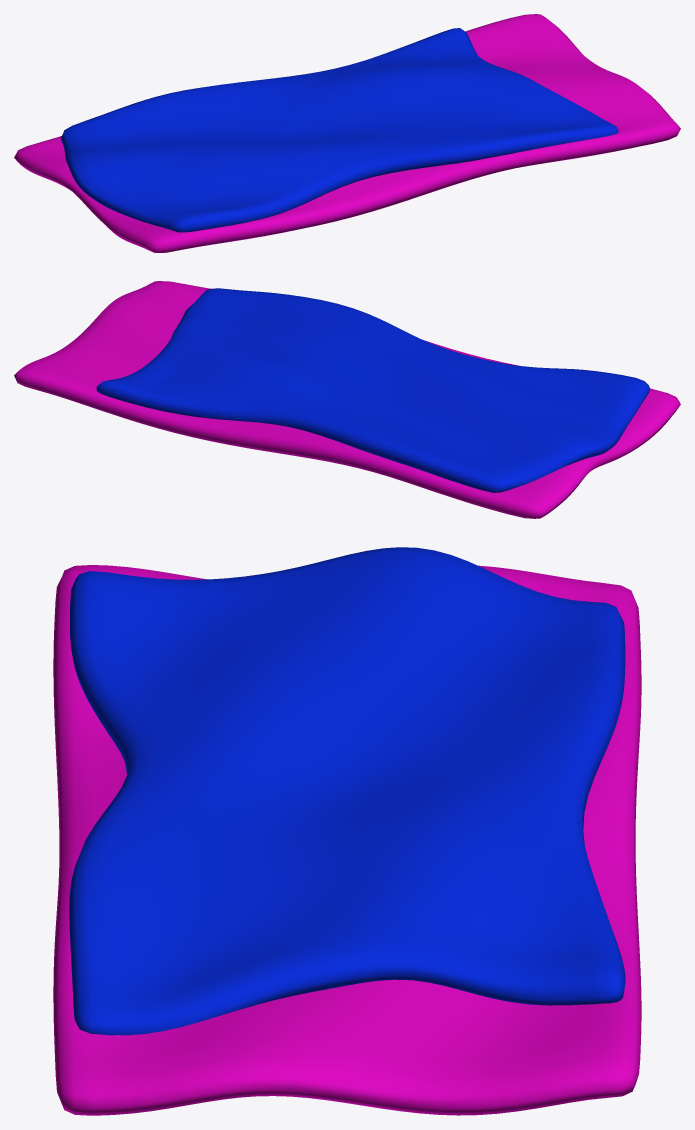
File: sleeping_bag.fbx
The picture shows the model from 3 angles, top to bottom: view 1: azimuth 30°, elevation 25°; view 2: azimuth 150°, elevation 25°; view 3: azimuth 270°, elevation 25°; orthographic projection. The views are drawn at different scales.
Visible parts, largest first — view 1: Plane.002; view 2: Plane.002; view 3: Plane.002.
Boxes of the visible parts, bbox=[...] form: Plane.002: bbox=[14, 14, 680, 252]; Plane.002: bbox=[14, 281, 680, 518]; Plane.002: bbox=[53, 547, 641, 1115].
Bounding box in the file's own units: 422 × 33.5 × 201.
